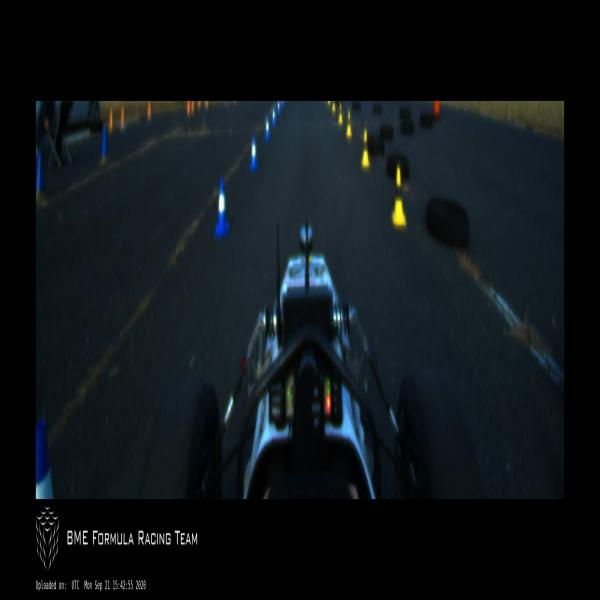blue_cone: (36, 413, 54, 499), (214, 177, 229, 240), (250, 136, 258, 172), (264, 116, 270, 142), (272, 107, 276, 127), (278, 101, 280, 115)
yellow_cone: (391, 167, 407, 225), (361, 130, 370, 167), (346, 111, 352, 137), (338, 104, 343, 124)
